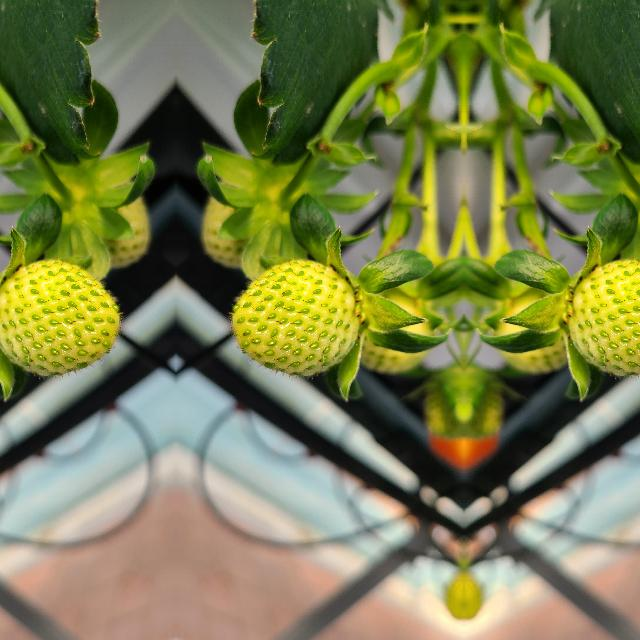Health_25: (232, 259, 358, 375), (0, 259, 117, 375), (568, 259, 640, 375)
